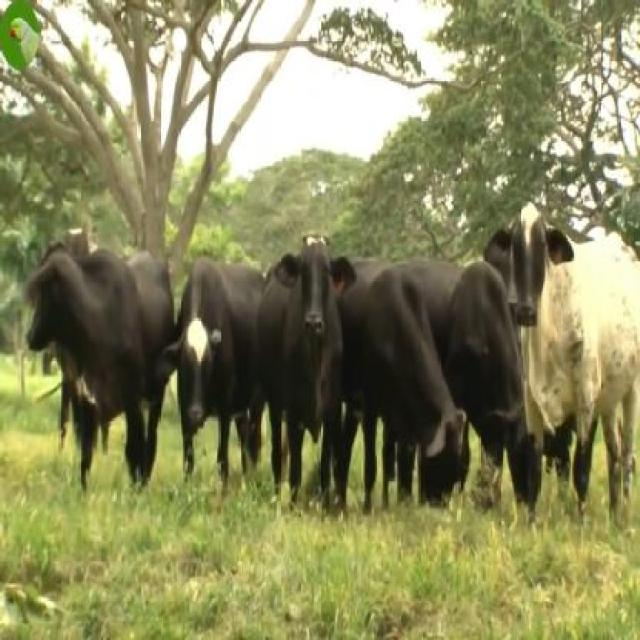Cow: (494, 205, 638, 532), (154, 238, 260, 496), (256, 229, 344, 508)
